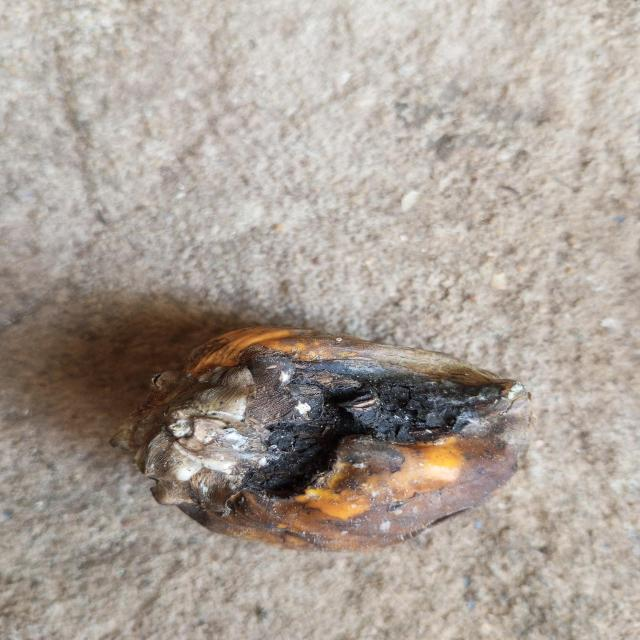damaged: (136, 330, 526, 555)
